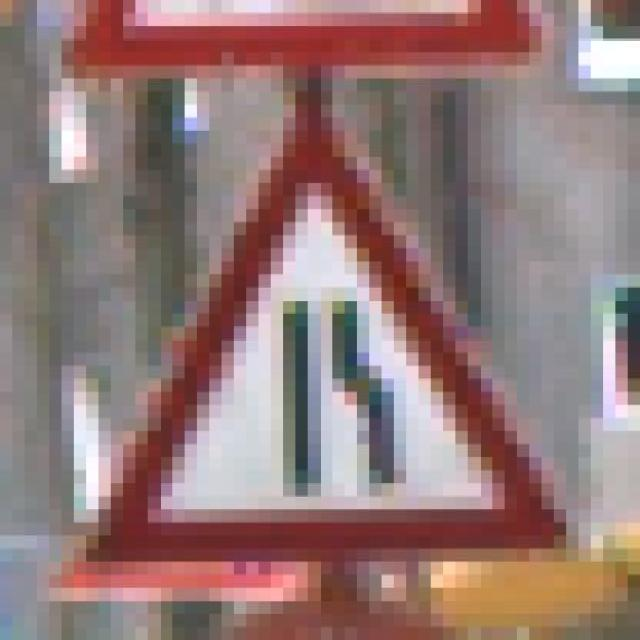-Road narrows on right: (61, 118, 578, 574)
